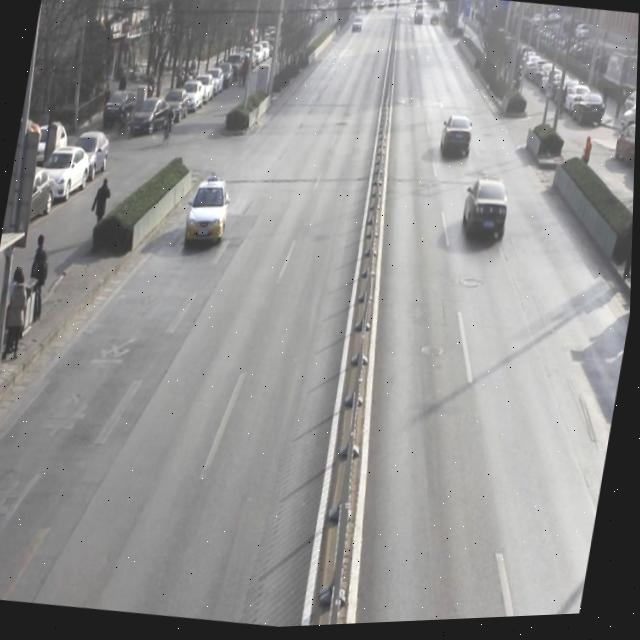car: (183, 175, 237, 258), (459, 179, 516, 248), (438, 116, 478, 169)
